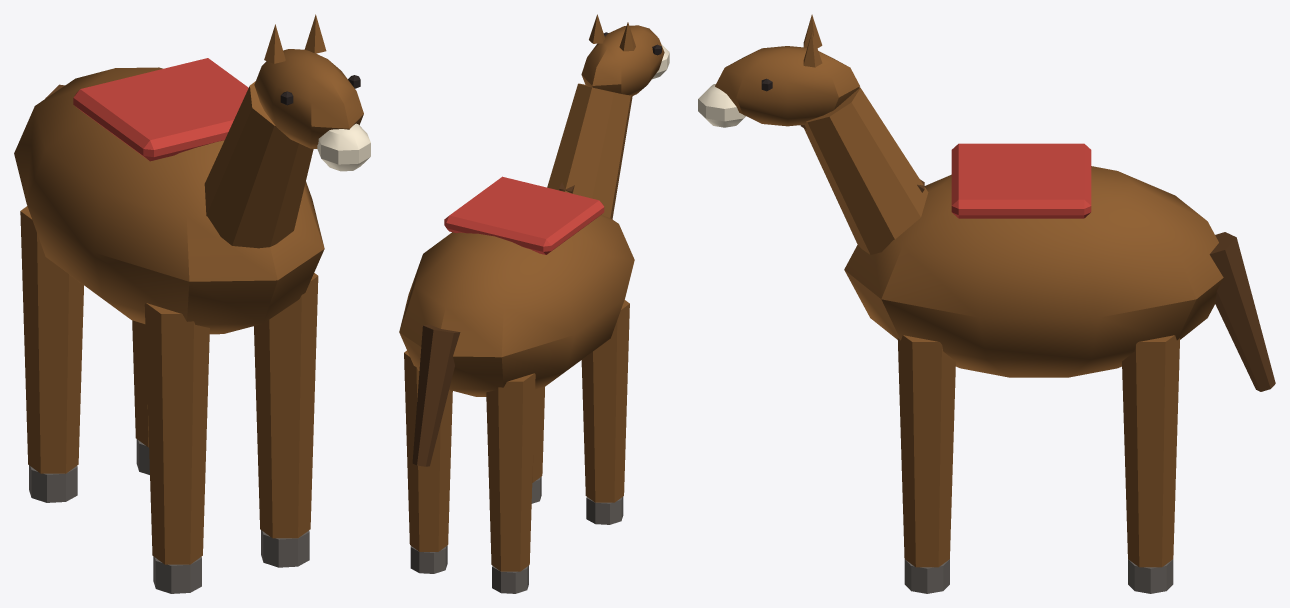
File: PR_Nature_At.fbx
The picture shows the model from 3 angles, left to right: view 1: azimuth 30°, elevation 25°; view 2: azimuth 150°, elevation 25°; view 3: azimuth 270°, elevation 25°; orthographic projection. The views are drawn at different scales.
Parts seen in each view (by area): view 1: PR_Nature_At; view 2: PR_Nature_At; view 3: PR_Nature_At.
Boxes of the visible parts, <box> form: PR_Nature_At: <box>14,14,370,593</box>; PR_Nature_At: <box>399,14,669,593</box>; PR_Nature_At: <box>698,14,1275,593</box>.
Bounding box in the file's own units: 0.6505 × 1.7 × 1.65.
Materials: 1 (1 with a texture image).
